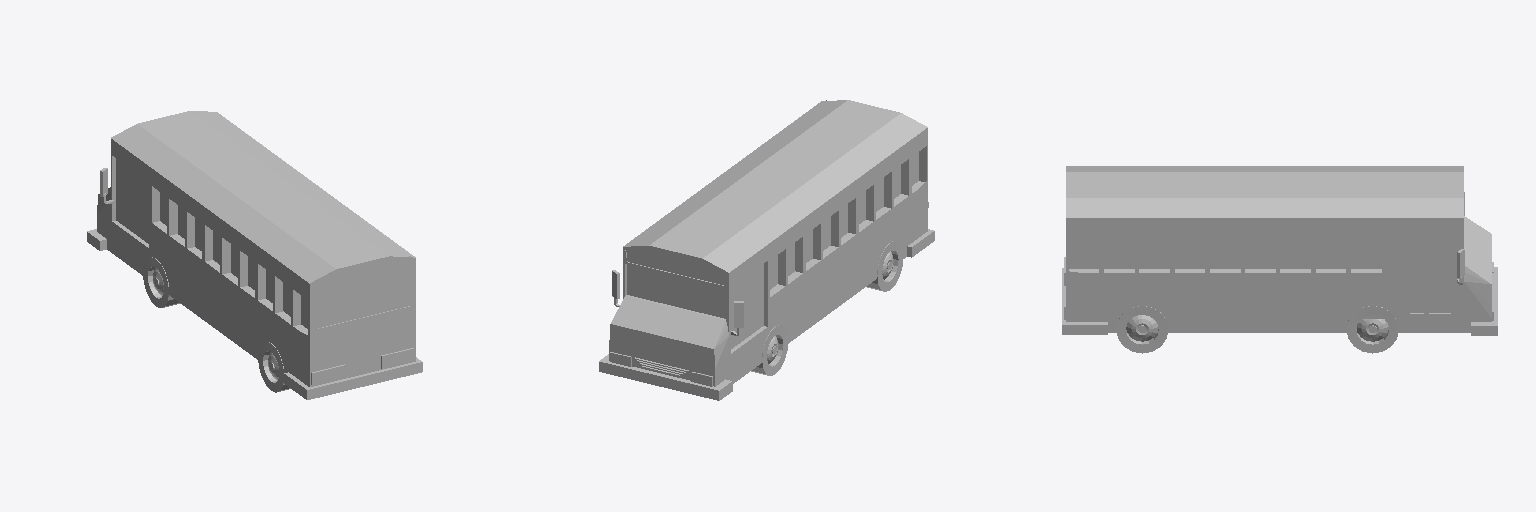
File: bus.obj
3 renders of one model, left to right at view 1: azimuth 30°, elevation 25°; view 2: azimuth 150°, elevation 25°; view 3: azimuth 270°, elevation 25°, orthographic.
Visible parts, largest first — view 1: SchoolBus2; view 2: SchoolBus2; view 3: SchoolBus2.
Boxes of the visible parts, x1,y1,x2,y2 form: SchoolBus2: [87, 111, 422, 399]; SchoolBus2: [599, 100, 934, 400]; SchoolBus2: [1062, 166, 1497, 353].
Size of the model in its own units: 1.06 by 1.09 by 3.02.